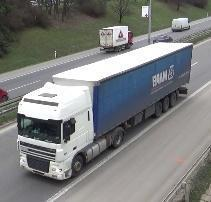truck: (17, 42, 193, 181), (100, 25, 134, 51), (171, 17, 192, 32)
